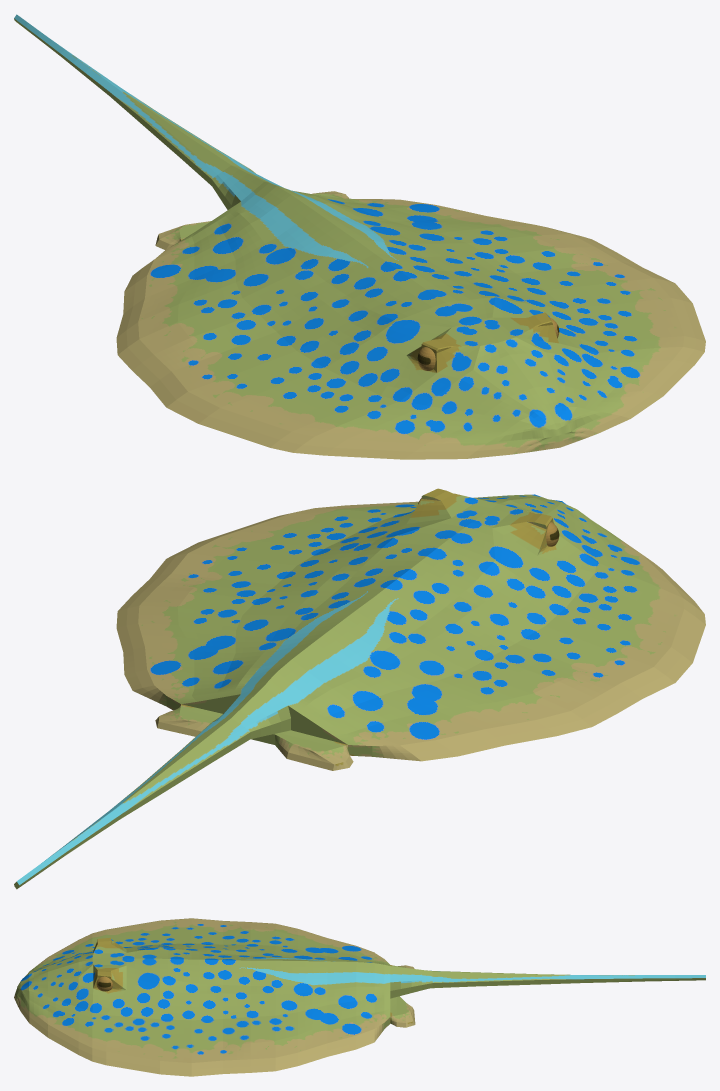
The model's file is stingray 1.obj.
3 views of the same model, one above another, from view 1: azimuth 30°, elevation 25°; view 2: azimuth 150°, elevation 25°; view 3: azimuth 270°, elevation 25° (orthographic). The views are drawn at different scales.
Visible parts, largest first — view 1: Cube; view 2: Cube; view 3: Cube.
Boxes of the visible parts, x1,y1,x2,y2 form: Cube: (14, 14, 705, 459); Cube: (14, 488, 705, 889); Cube: (14, 918, 705, 1076).
Size of the model in its own units: 1.78 by 0.2155 by 3.28.
2 materials, 2 textured.
